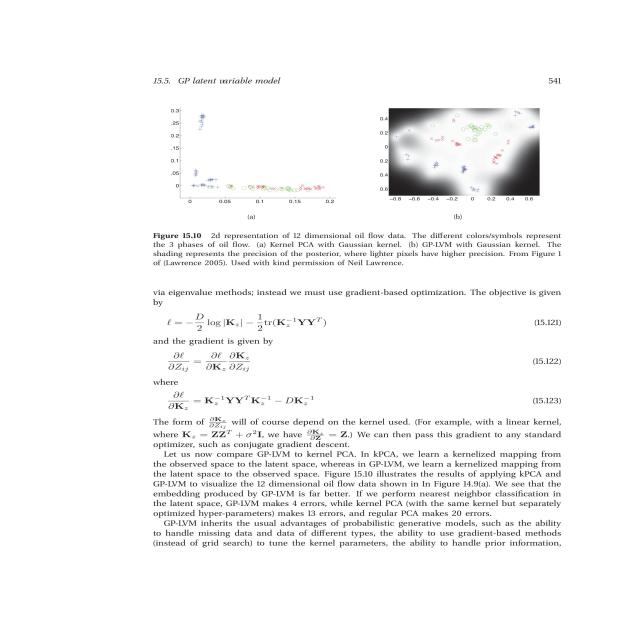diagram: (125, 99, 576, 280)
